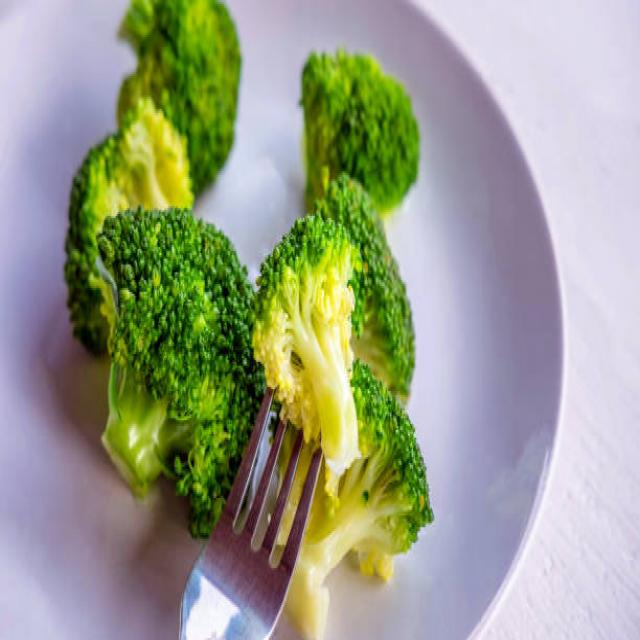Broccoli head: (87, 210, 244, 505), (318, 43, 457, 233), (268, 223, 369, 481)
